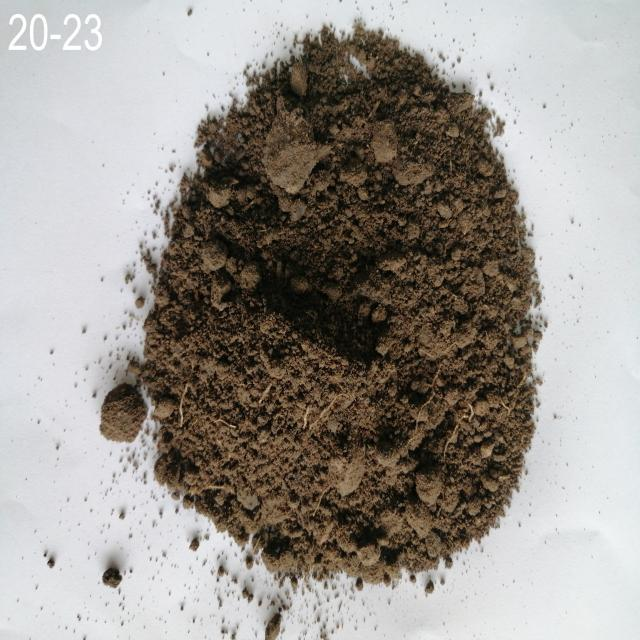soil: (228, 114, 471, 524)
